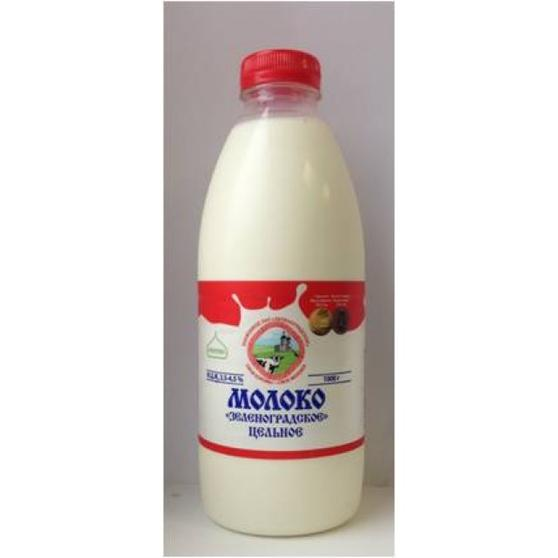milk: (186, 27, 394, 541)
